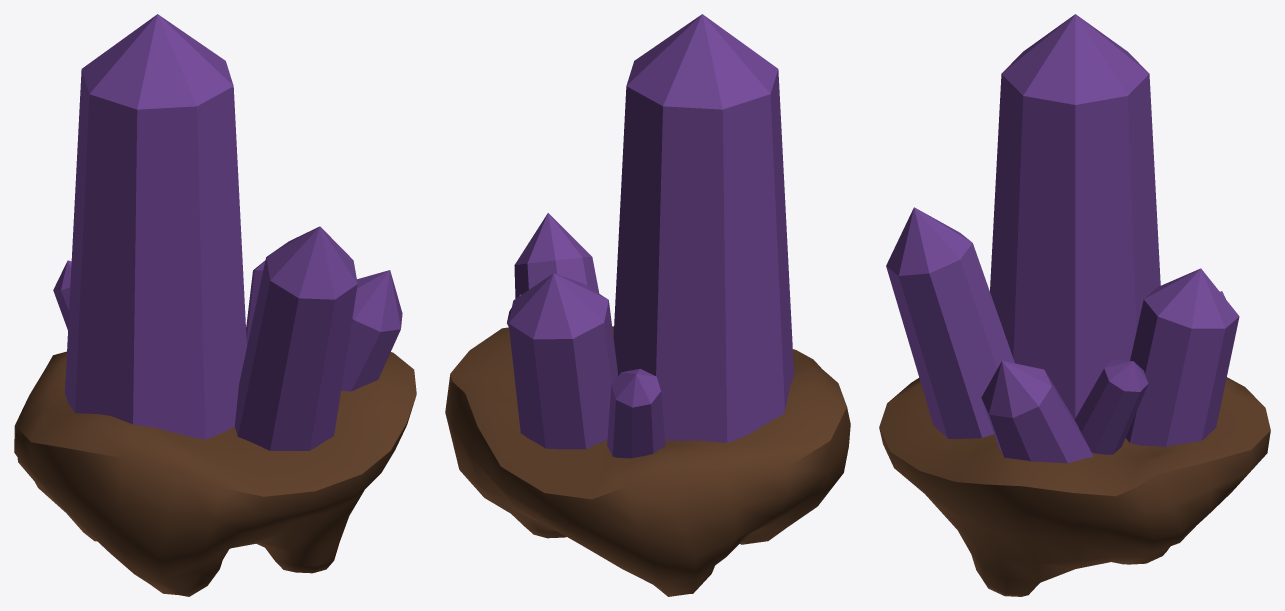
File: Crystal_mesh.fbx
The picture shows the model from 3 angles, left to right: view 1: azimuth 30°, elevation 25°; view 2: azimuth 150°, elevation 25°; view 3: azimuth 270°, elevation 25°; orthographic projection. The views are drawn at different scales.
Parts seen in each view (by area): view 1: Cylinder.003; view 2: Cylinder.003; view 3: Cylinder.003.
Part boxes in pixels (bbox=[...]): Cylinder.003: bbox=[14, 14, 416, 596]; Cylinder.003: bbox=[445, 14, 850, 596]; Cylinder.003: bbox=[879, 14, 1270, 596].
Size of the model in its own units: 60.98 by 90.25 by 60.82.
